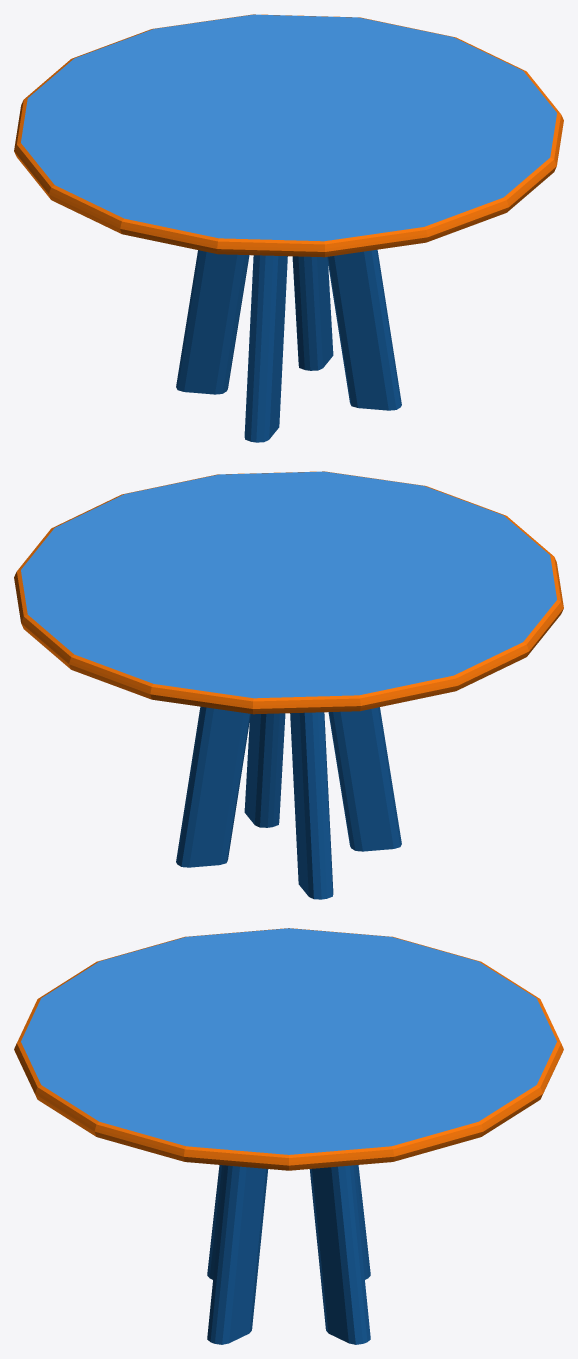
File: Prop_KidsTable.fbx
The picture shows the model from 3 angles, top to bottom: view 1: azimuth 30°, elevation 25°; view 2: azimuth 150°, elevation 25°; view 3: azimuth 270°, elevation 25°; orthographic projection.
Visible parts, largest first — view 1: Prop_KidsTable; view 2: Prop_KidsTable; view 3: Prop_KidsTable.
Part boxes in pixels (<box>): Prop_KidsTable: <box>14,14,563,442</box>; Prop_KidsTable: <box>14,471,563,899</box>; Prop_KidsTable: <box>14,928,563,1344</box>.
Bounding box in the file's own units: 125 × 66.57 × 125.
